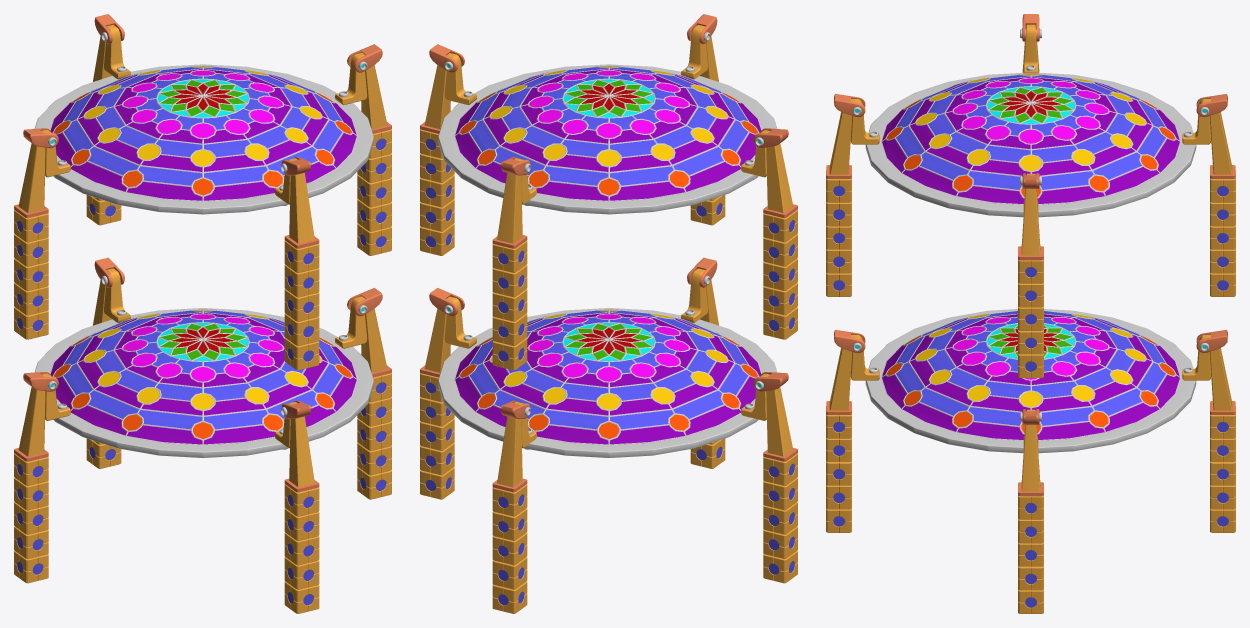
The model's file is GlassSky.fbx.
The picture shows the model from 3 angles, left to right: view 1: azimuth 30°, elevation 25°; view 2: azimuth 150°, elevation 25°; view 3: azimuth 270°, elevation 25°; orthographic projection. The views are drawn at different scales.
Visible parts, largest first — view 1: GlassSky_Comb, GlassSky, ColumnIron (×4), ColumnBlock3 (×4), ColumnBlock2 (×4), ColumnBlock4 (×4), ColumnBlock5 (×2), ColumnBlock1; view 2: GlassSky_Comb, GlassSky, ColumnIron (×4), ColumnBlock2 (×4), ColumnBlock3 (×4), ColumnBlock4 (×4), ColumnBlock5 (×2), ColumnBlock1; view 3: GlassSky_Comb, GlassSky, ColumnIron (×3), ColumnBlock4 (×4), ColumnBlock3 (×4), ColumnBlock2 (×3), ColumnBlock5 (×3), ColumnBlock1.
Part boxes in pixels (left/top/right/bottom): GlassSky_Comb: left=14, top=14, right=391, bottom=370; GlassSky: left=34, top=308, right=373, bottom=457; ColumnIron (×4): left=14, top=257, right=391, bottom=492; ColumnBlock3 (×4): left=14, top=418, right=391, bottom=613; ColumnBlock2 (×4): left=14, top=442, right=391, bottom=589; ColumnBlock4 (×4): left=14, top=397, right=391, bottom=540; ColumnBlock5 (×2): left=14, top=453, right=319, bottom=516; ColumnBlock1: left=86, top=438, right=121, bottom=468; GlassSky_Comb: left=420, top=14, right=797, bottom=370; GlassSky: left=438, top=308, right=777, bottom=457; ColumnIron (×4): left=420, top=257, right=797, bottom=492; ColumnBlock2 (×4): left=420, top=442, right=797, bottom=589; ColumnBlock3 (×4): left=420, top=418, right=797, bottom=565; ColumnBlock4 (×4): left=420, top=397, right=797, bottom=540; ColumnBlock5 (×2): left=492, top=453, right=797, bottom=516; ColumnBlock1: left=492, top=581, right=527, bottom=613; GlassSky_Comb: left=826, top=14, right=1235, bottom=377; GlassSky: left=865, top=309, right=1196, bottom=453; ColumnIron (×3): left=826, top=329, right=1235, bottom=496; ColumnBlock4 (×4): left=826, top=437, right=1235, bottom=613; ColumnBlock3 (×4): left=826, top=461, right=1235, bottom=566; ColumnBlock2 (×3): left=826, top=485, right=1235, bottom=590; ColumnBlock5 (×3): left=826, top=406, right=1235, bottom=519; ColumnBlock1: left=1210, top=508, right=1235, bottom=532.
Size of the model in its own units: 1574 by 1826 by 1574.
